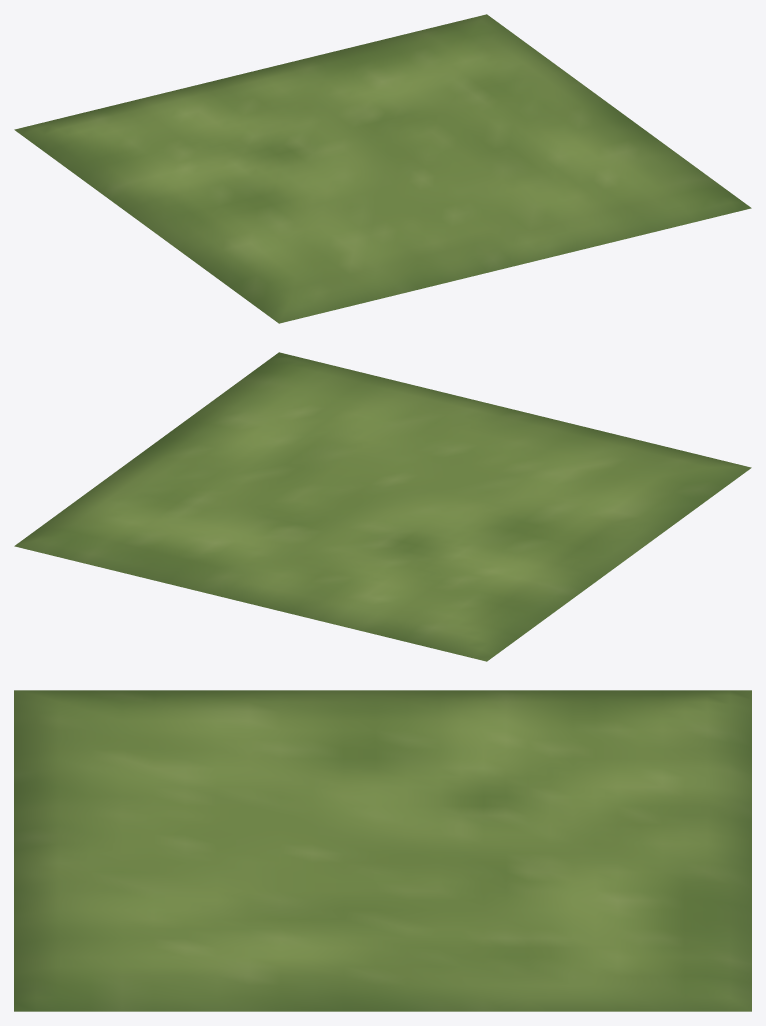
File: Kit_Ground_BubbleGarden_01.glb
The picture shows the model from 3 angles, top to bottom: view 1: azimuth 30°, elevation 25°; view 2: azimuth 150°, elevation 25°; view 3: azimuth 270°, elevation 25°; orthographic projection. The views are drawn at different scales.
Parts seen in each view (by area): view 1: EX_Ground_Grass; view 2: EX_Ground_Grass; view 3: EX_Ground_Grass.
Boxes of the visible parts, x1,y1,x2,y2 form: EX_Ground_Grass: [14, 14, 751, 323]; EX_Ground_Grass: [14, 352, 751, 661]; EX_Ground_Grass: [14, 690, 751, 1011].
Size of what is drawn, in the model's own units: 34 by 0.35 by 33.
